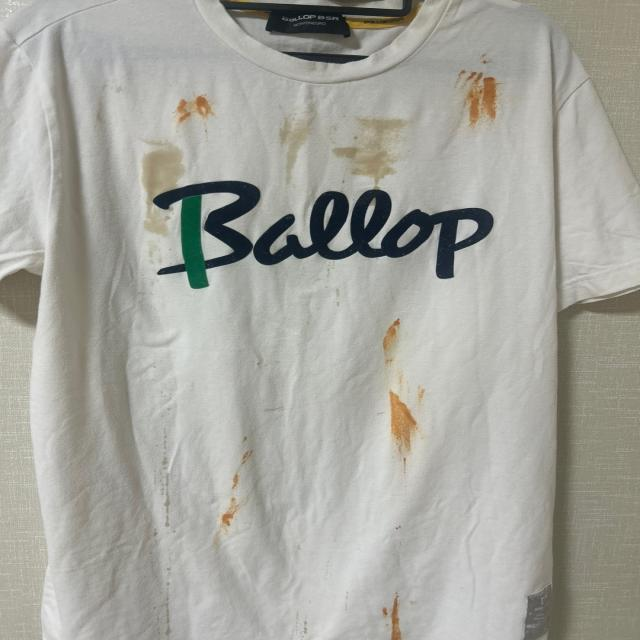stain: (140, 171, 178, 234), (149, 564, 179, 640), (387, 385, 420, 451), (353, 153, 402, 190), (158, 427, 174, 538), (382, 592, 419, 640), (144, 136, 182, 177), (476, 74, 506, 122), (230, 450, 257, 492), (218, 493, 250, 528), (378, 323, 404, 366), (462, 82, 482, 130), (356, 117, 412, 134), (285, 126, 300, 186), (169, 95, 196, 123), (288, 614, 314, 640), (299, 110, 320, 142), (359, 132, 390, 153), (230, 422, 254, 447), (334, 141, 361, 163), (147, 240, 166, 267), (100, 81, 132, 96), (458, 70, 484, 88), (278, 112, 292, 144), (340, 589, 355, 615), (390, 369, 404, 396), (322, 260, 337, 281), (476, 53, 496, 68), (329, 286, 344, 306), (416, 384, 432, 400), (404, 453, 408, 484)
